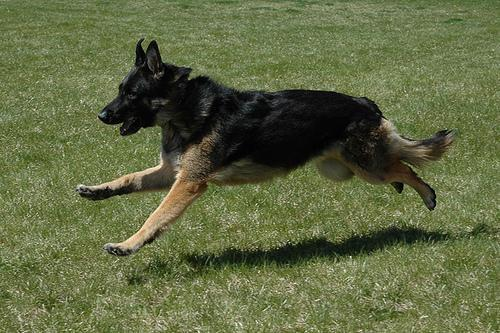German_shepherd: (75, 39, 455, 254)
